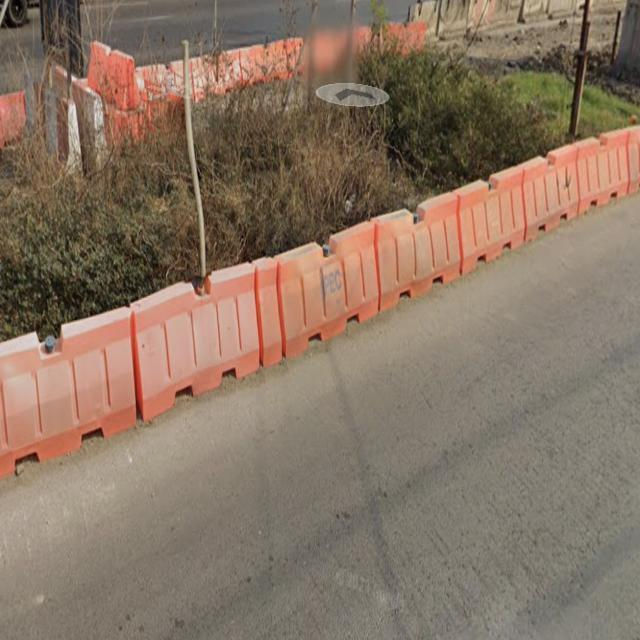fallen_object: (226, 227, 419, 376), (465, 120, 633, 272), (100, 269, 270, 399), (6, 330, 141, 465), (12, 43, 153, 172), (356, 166, 472, 315), (86, 36, 324, 92)
